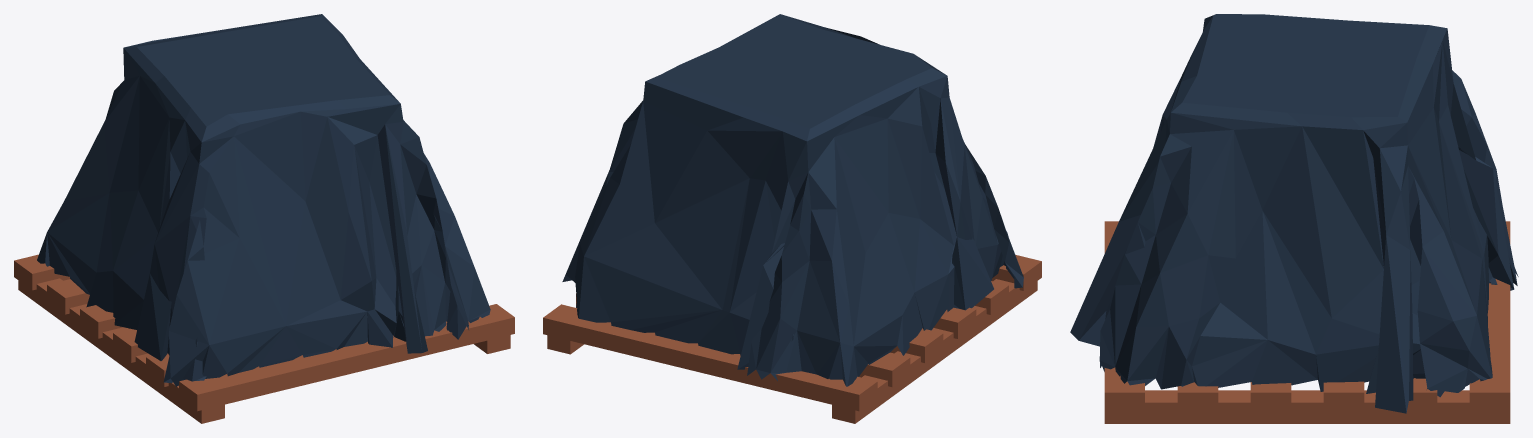
The model's file is shelf-item-2.glb.
The picture shows the model from 3 angles, left to right: view 1: azimuth 30°, elevation 25°; view 2: azimuth 150°, elevation 25°; view 3: azimuth 270°, elevation 25°; orthographic projection. The views are drawn at different scales.
Visible parts, largest first — view 1: pallet; view 2: pallet; view 3: pallet.
Boxes of the visible parts, x1,y1,x2,y2 form: pallet: (14,14,514,423); pallet: (543,14,1041,423); pallet: (1070,14,1518,423).
Bounding box in the file's own units: 2.22 × 1.54 × 2.21.
